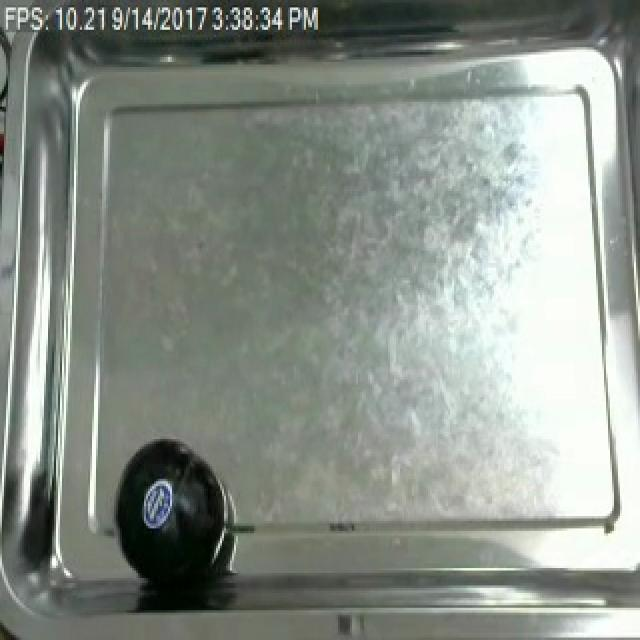Fruit: (106, 427, 240, 590)
